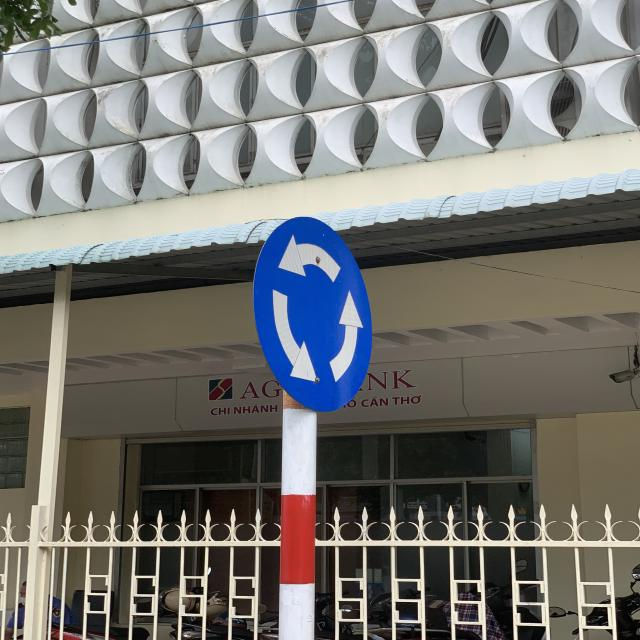Xe_Bus: (252, 216, 374, 412)
